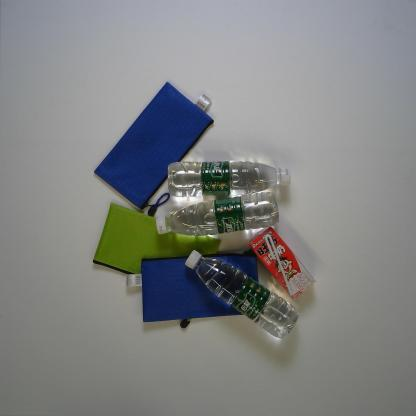Drink: (184, 249, 300, 340), (155, 189, 280, 237), (167, 160, 292, 197)
Milk: (248, 226, 317, 301)
Stationery: (93, 79, 214, 218), (92, 202, 222, 329), (124, 248, 264, 322)
